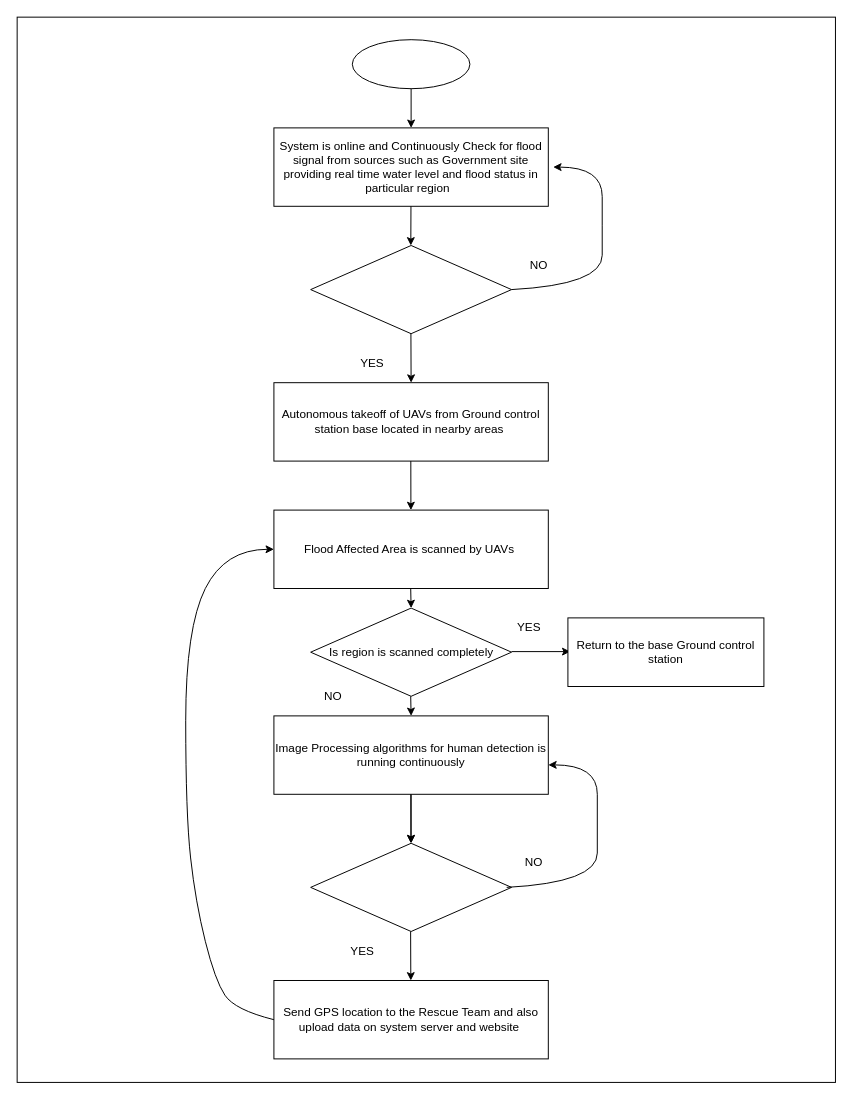
Image size: 853x1100. Some labels were removed from this diagram. Each missing label, with the centre of its shape:
If humans life is detected: the point at 411,886
Is there flood in given region: the point at 411,289
Start: the point at 410,64
